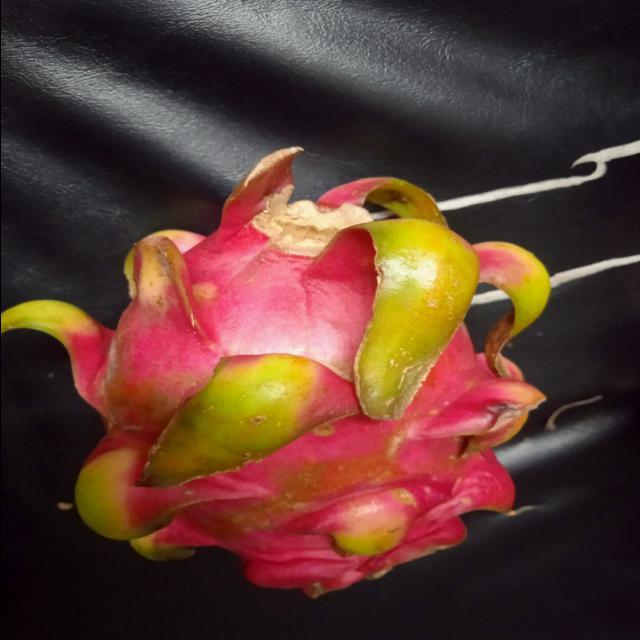do: (1, 140, 552, 598)
